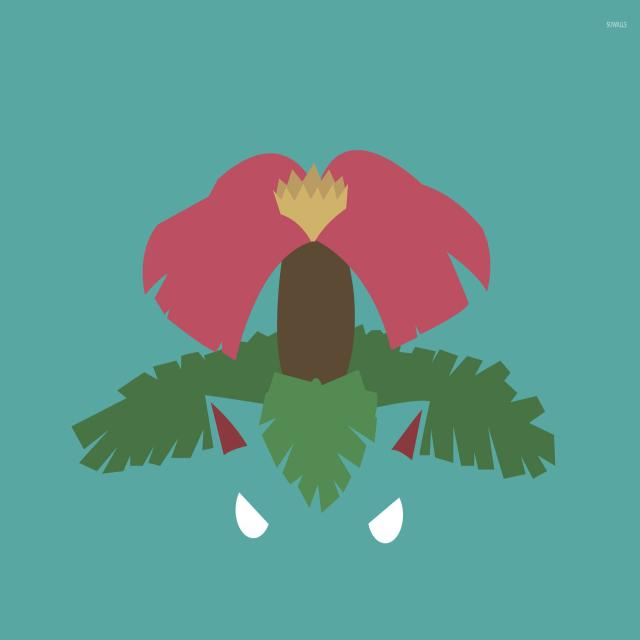Venusaur: (156, 135, 491, 627)
